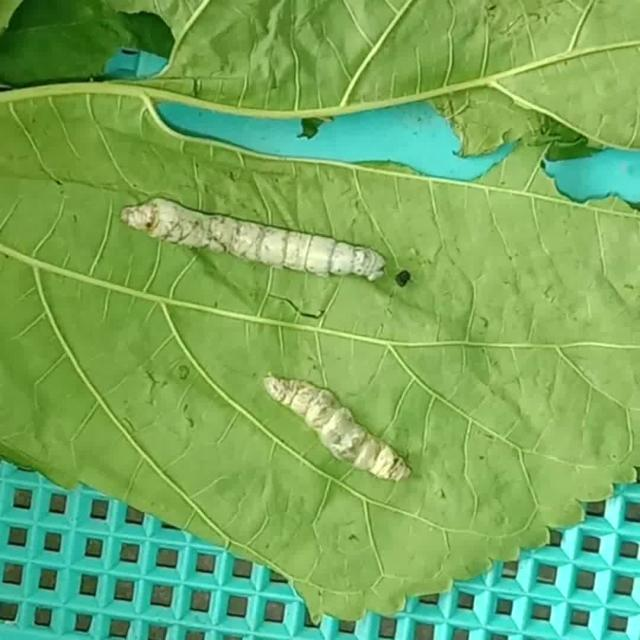Grasserie: (105, 159, 394, 302), (255, 357, 415, 492)
